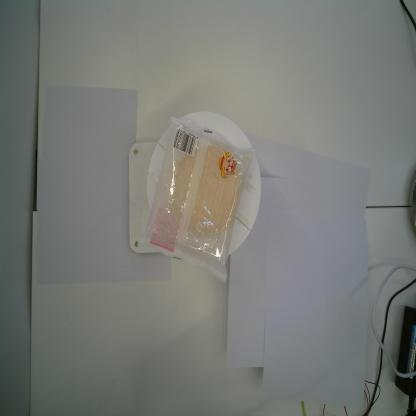Dessert: (137, 116, 256, 285)
